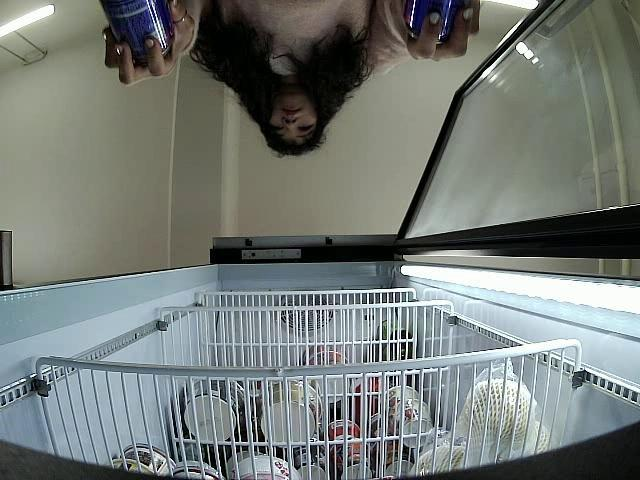14_welchsGrape: (102, 0, 174, 65), (404, 0, 464, 47)
